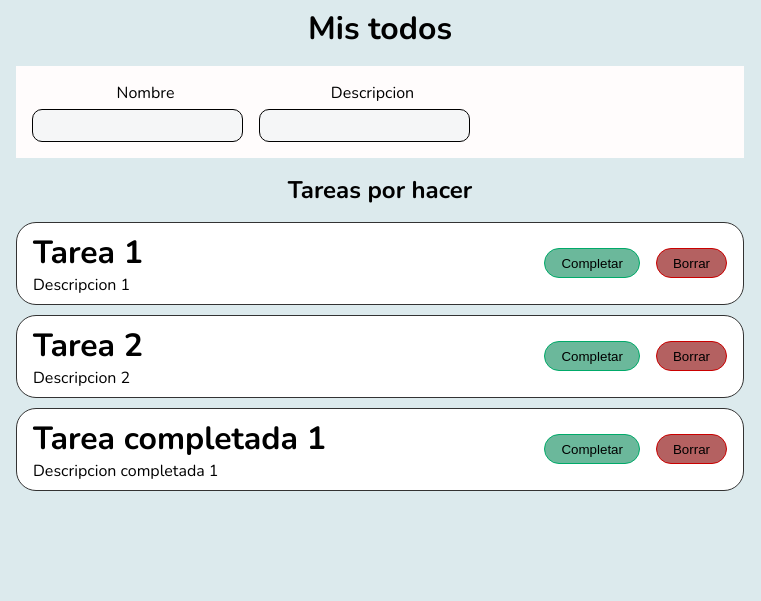
it: it creates a todo
In the field with test id "name": (138, 125) [32,109,243,142], type "name test"
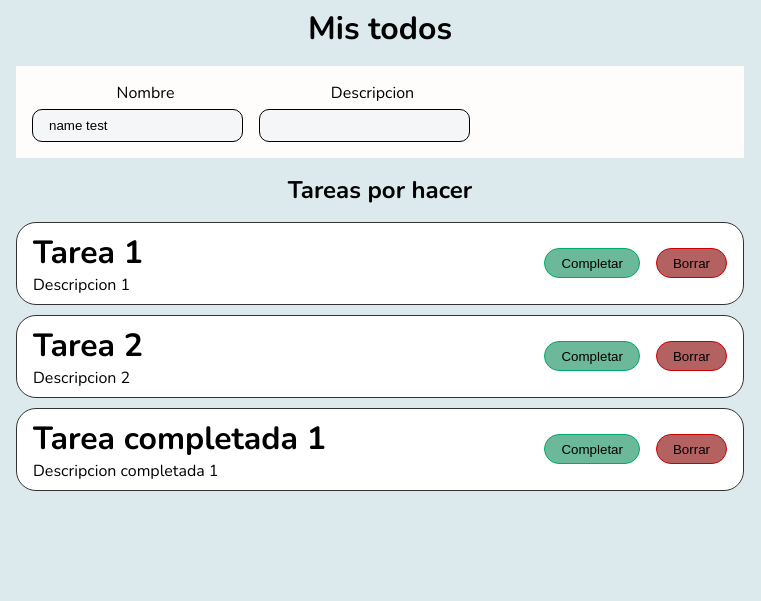
In the field with test id "description": (364, 125) [259,109,470,142], type "description test"
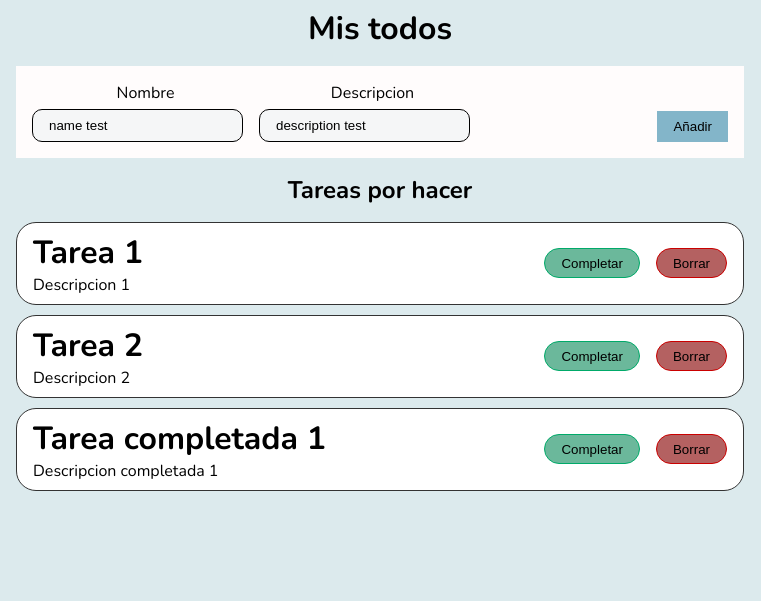
Now the button with test id "add-button" is shown
Click the button with test id "add-button": (693, 126) [658,111,728,142]
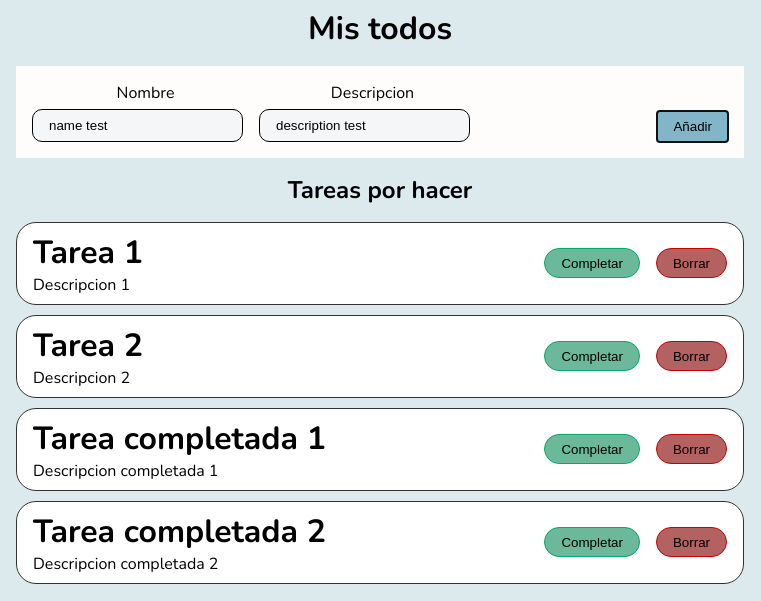
Now the number of elements with test id "single-todo" is 4, box [16,222,744,305]; [16,315,744,398]; [16,408,744,491]; [16,501,744,584]
